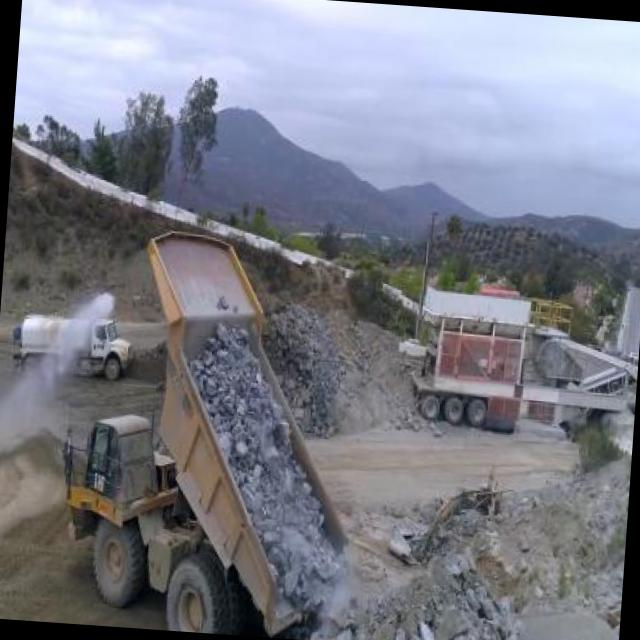Dump Truck: (38, 216, 374, 640)
